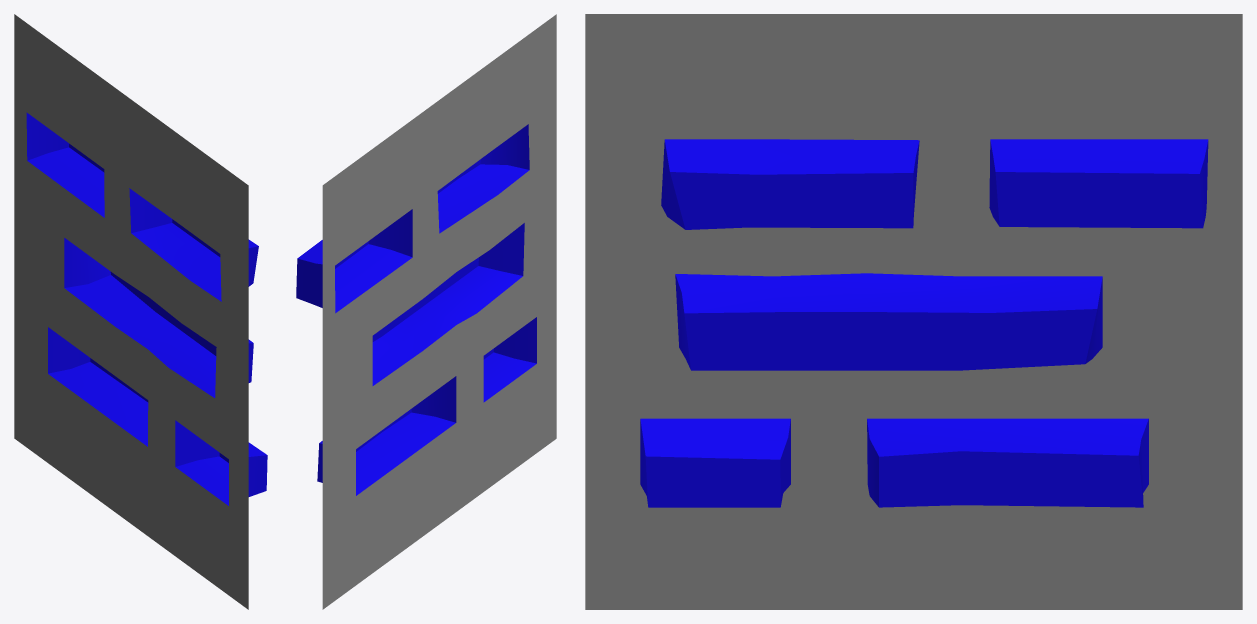
File: Background_Holes.FBX
3 views of the same model, side by side, from view 1: azimuth 30°, elevation 25°; view 2: azimuth 150°, elevation 25°; view 3: azimuth 270°, elevation 25° (orthographic). The views are drawn at different scales.
Visible parts, largest first — view 1: Background_Holes; view 2: Background_Holes; view 3: Background_Holes.
Part boxes in pixels (<box>): Background_Holes: <box>14,14,267,609</box>; Background_Holes: <box>296,14,556,609</box>; Background_Holes: <box>585,14,1242,609</box>.
Bounding box in the file's own units: 50 × 500 × 500.
